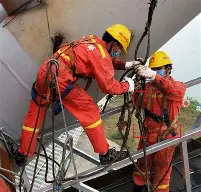safety belt: (136, 91, 182, 138), (57, 32, 99, 76)
